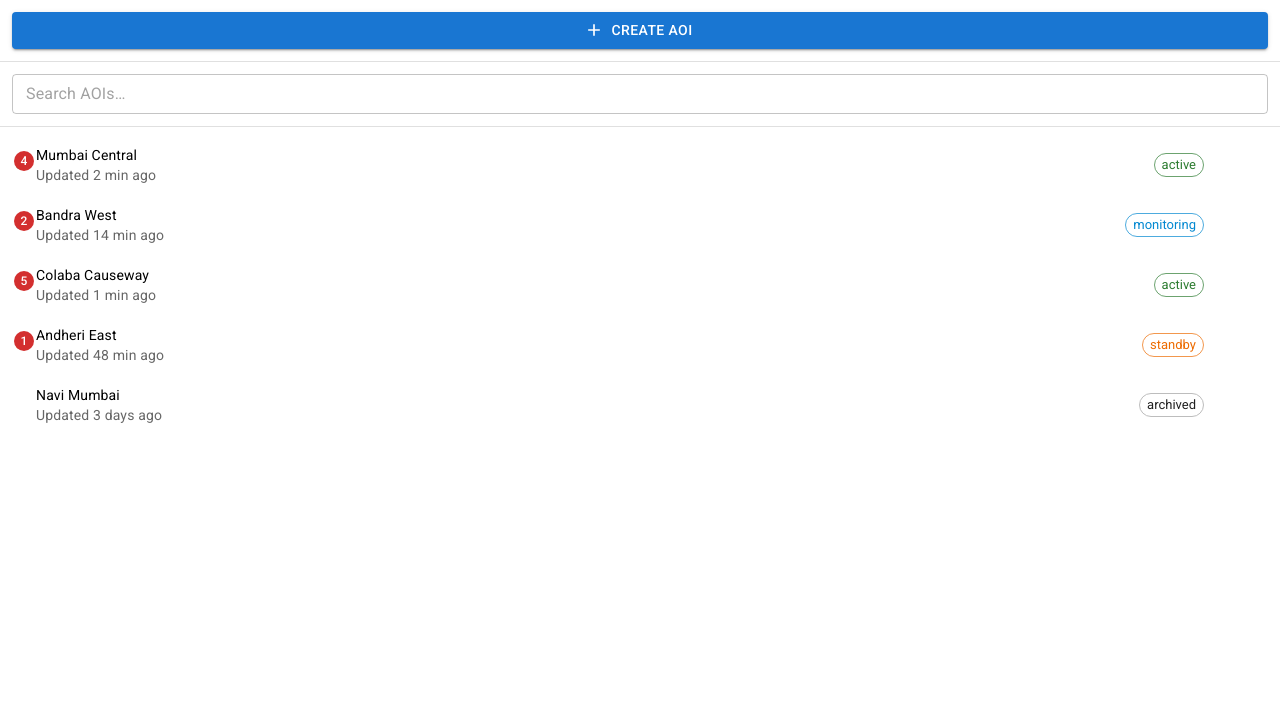
Scenario: AOISidebar › opens the AOIForm in create mode when Create AOI is clicked
The image size is (1280, 720).
Click the button "Create AOI": (640, 30) left=12, top=12, right=1268, bottom=48
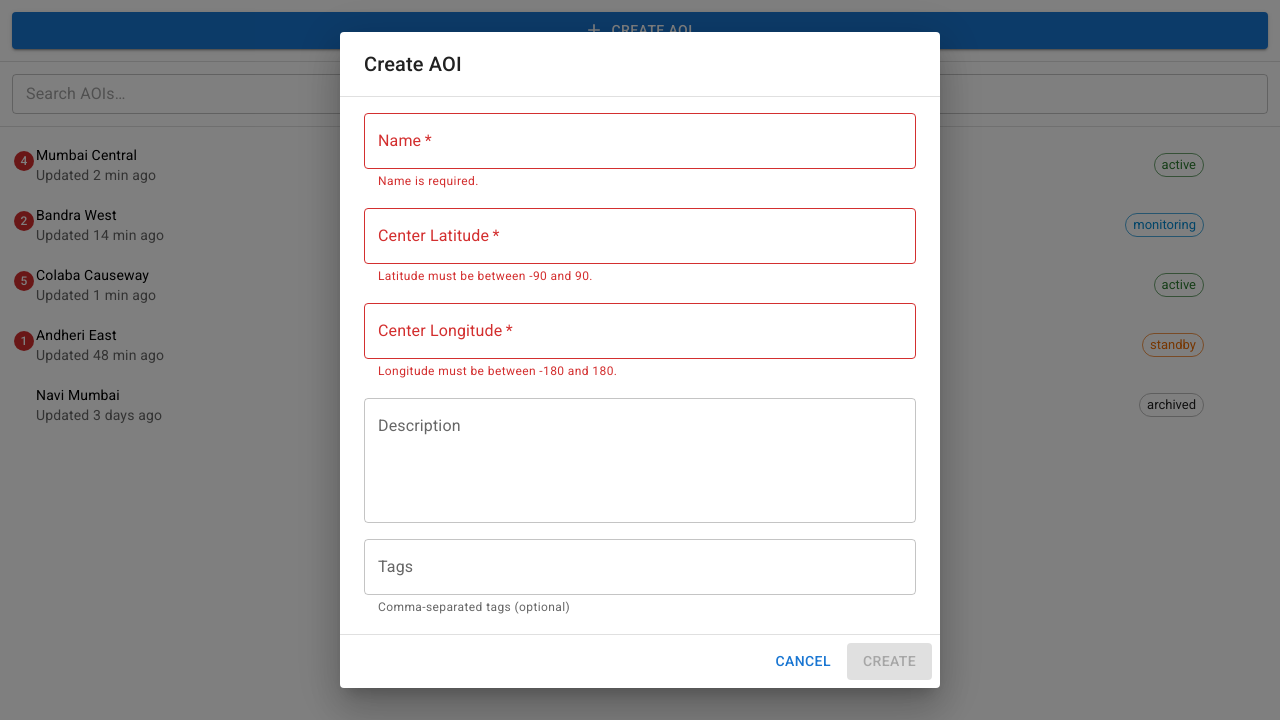
Check: the field labelled "Name" is shown, box left=364, top=113, right=916, bottom=169
Check: the button "Create" is disabled, box left=847, top=643, right=932, bottom=680
